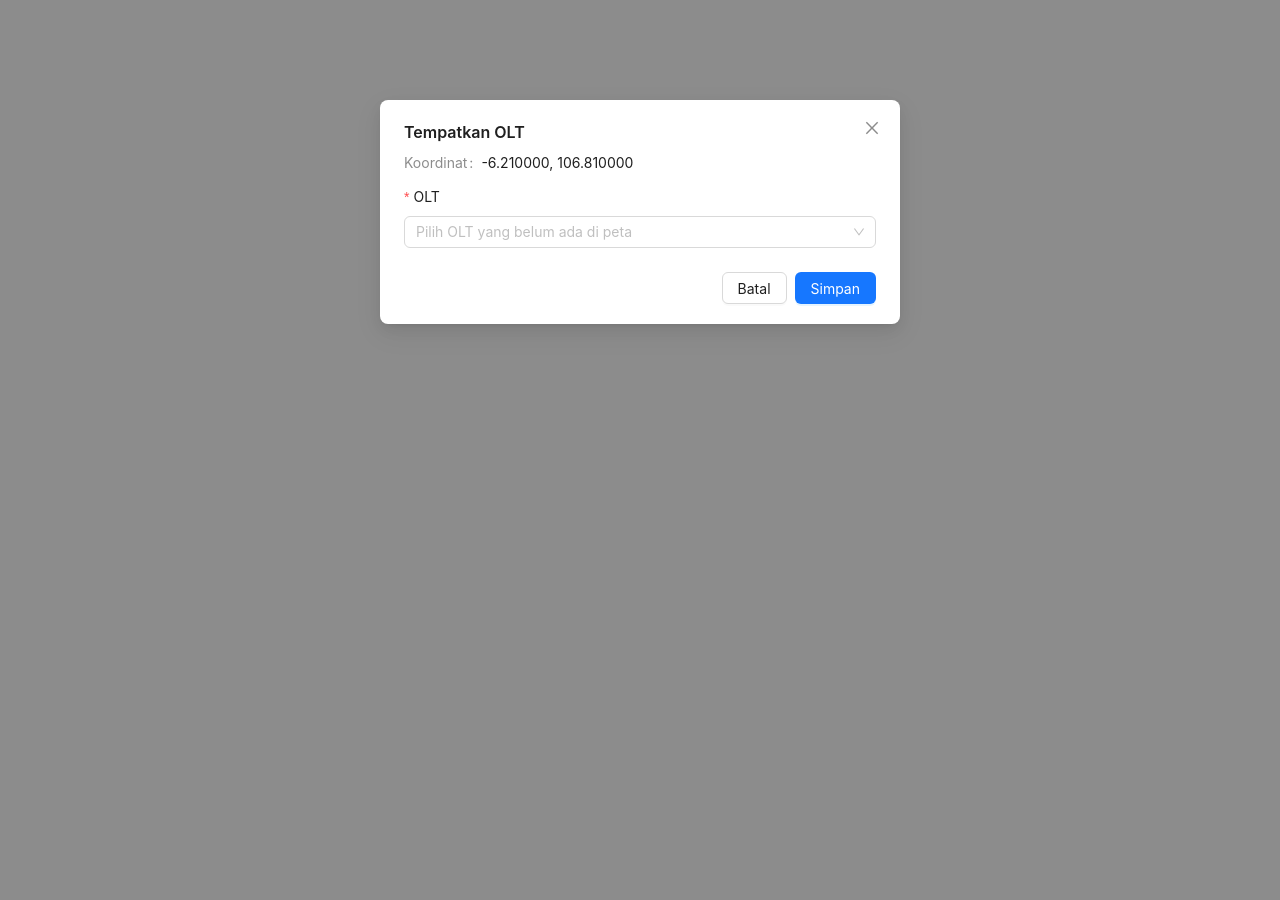
Scenario: OltPlacementModal › offers only the OLTs it was given, not a hardcoded list
Click the dropdown labelled "OLT" at (429, 197), box [404,186,454,208]
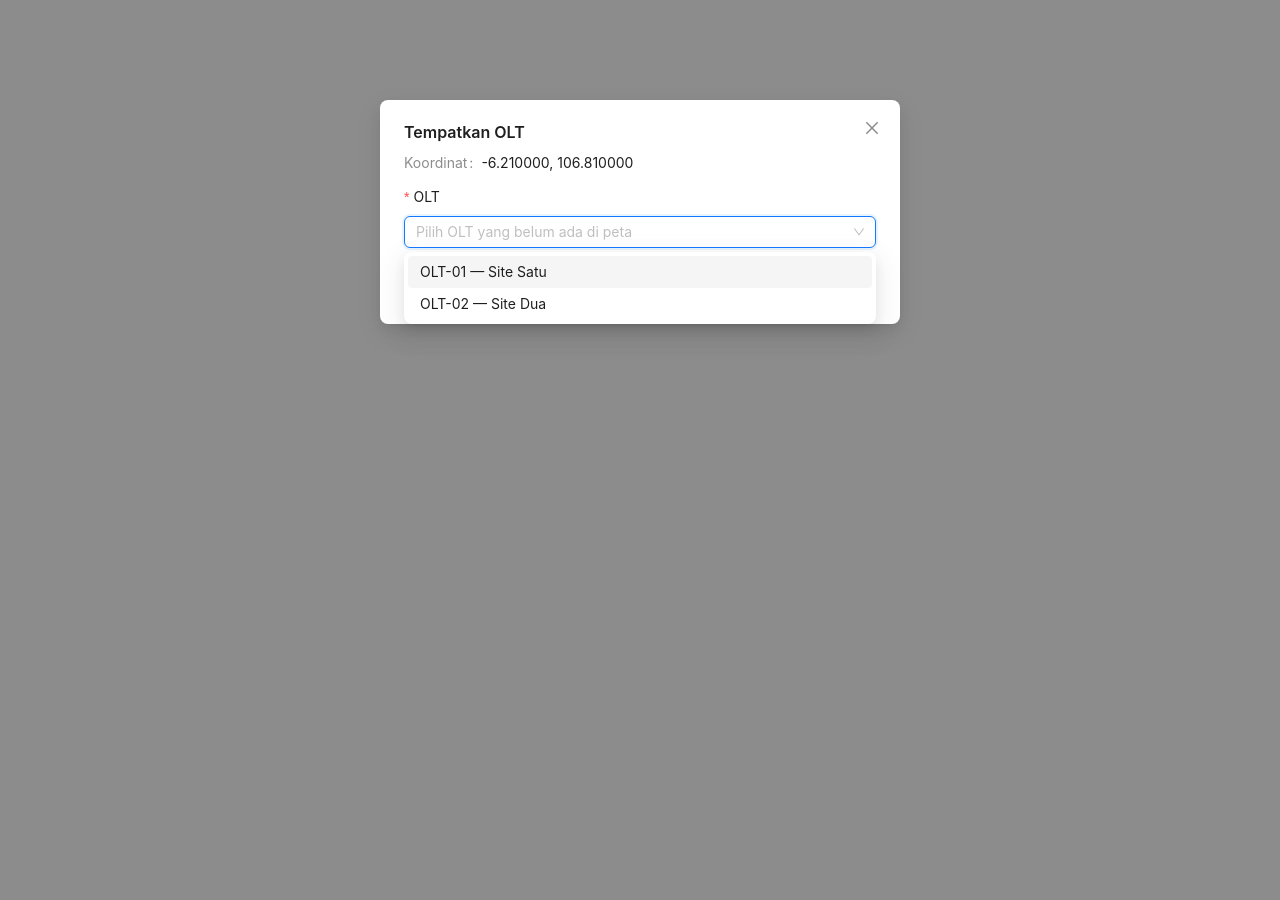
Expected: the element titled "OLT-01 — Site Satu" is shown, [408,256,872,288]
Expected: the element titled "OLT-02 — Site Dua" is shown, [420,295,546,312]
